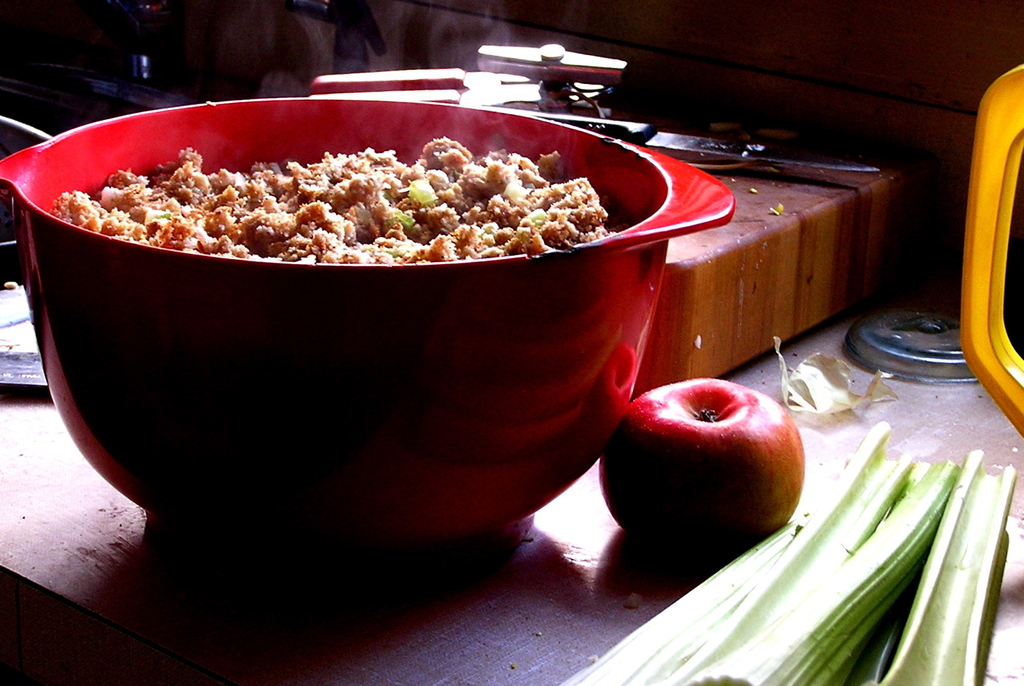Apple: (606, 373, 815, 566)
